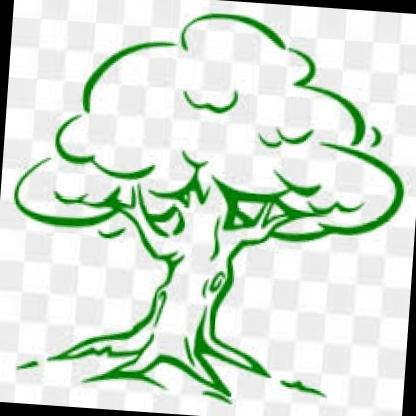branch_cut: (104, 160, 298, 262)
crown_cloud: (12, 0, 416, 257)
root_only: (50, 308, 278, 402)
trunk_straight: (141, 268, 243, 328)
